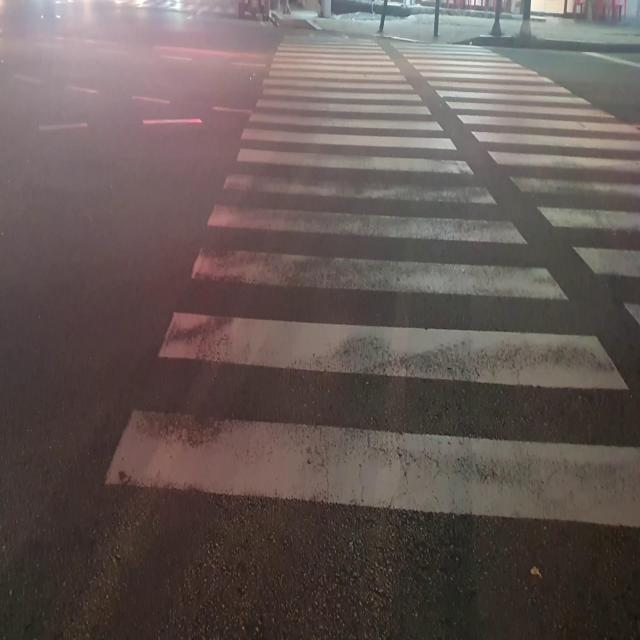crosswalk: (79, 26, 640, 540)
